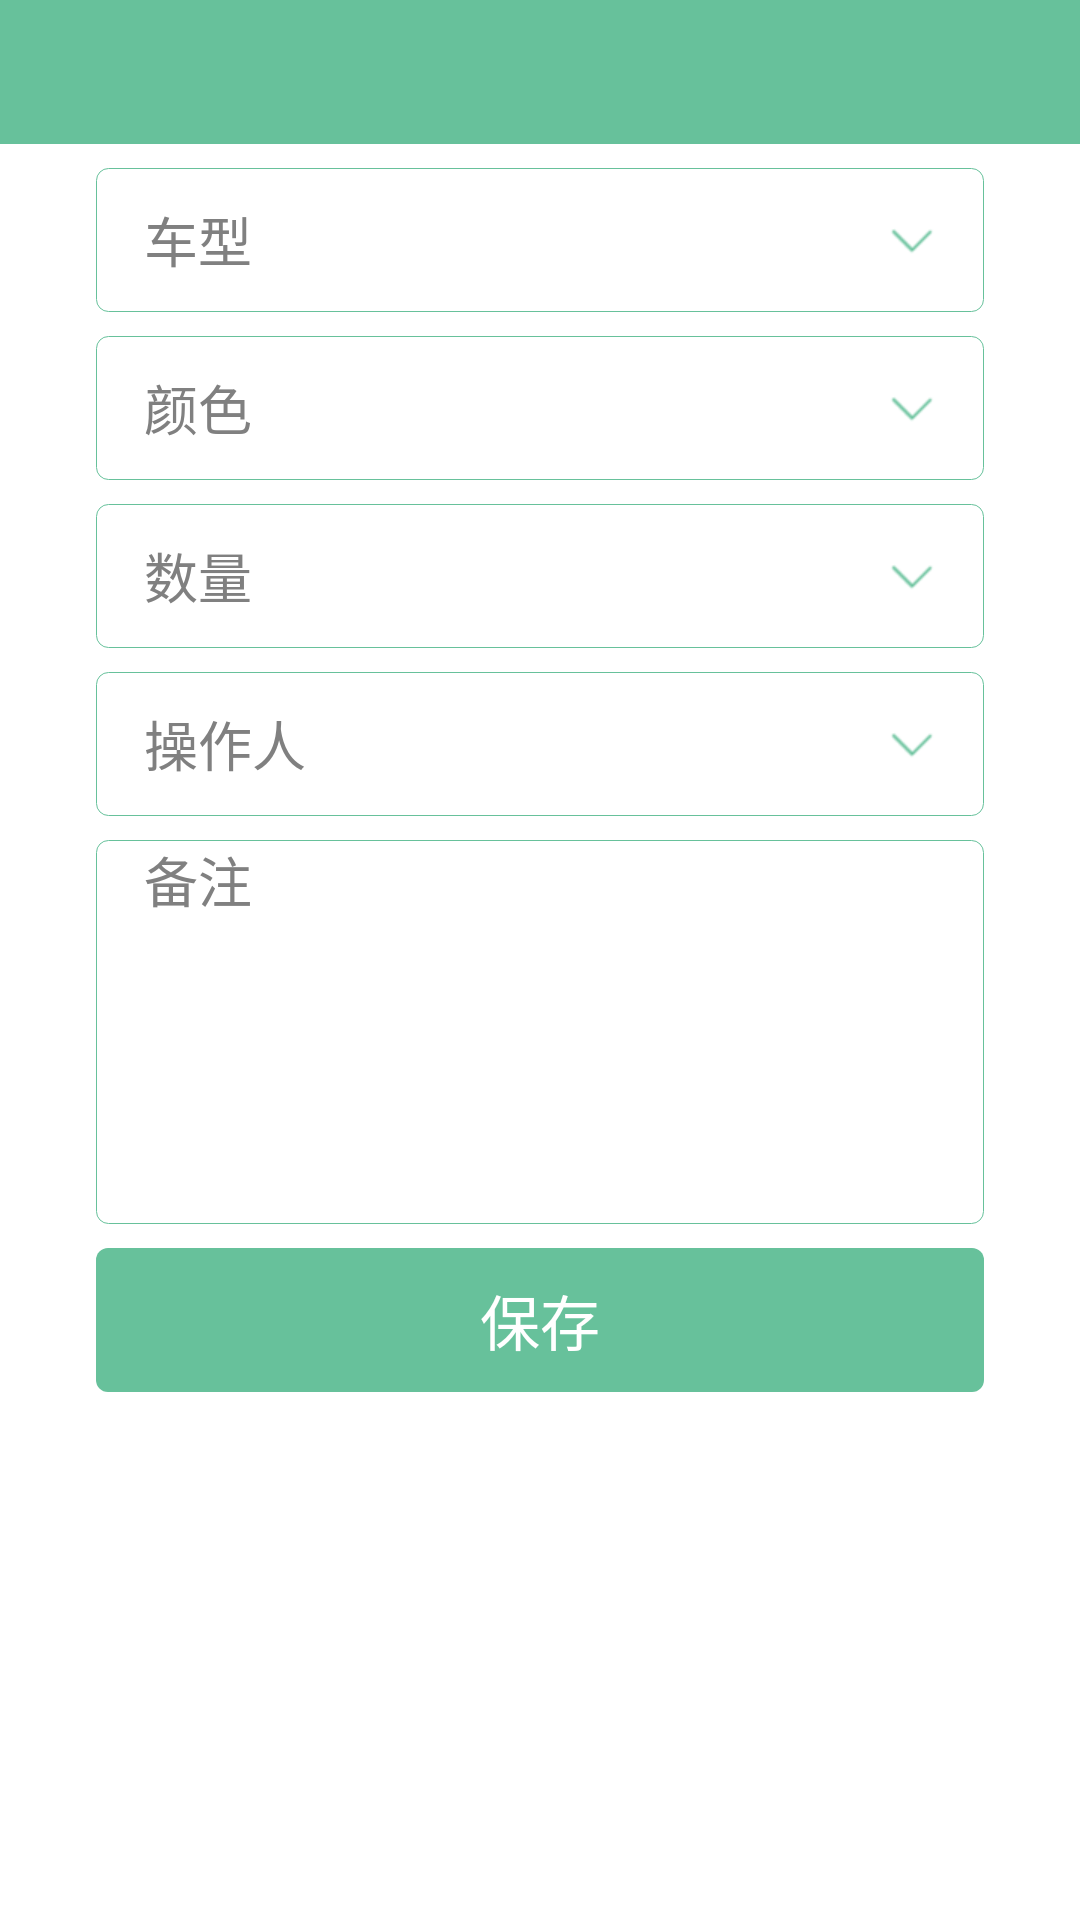

Icon click points for this 1080px x 1920px phone screenshot, format (x,y):
arrows down: (912,240), (912,408), (912,576), (912,744)
